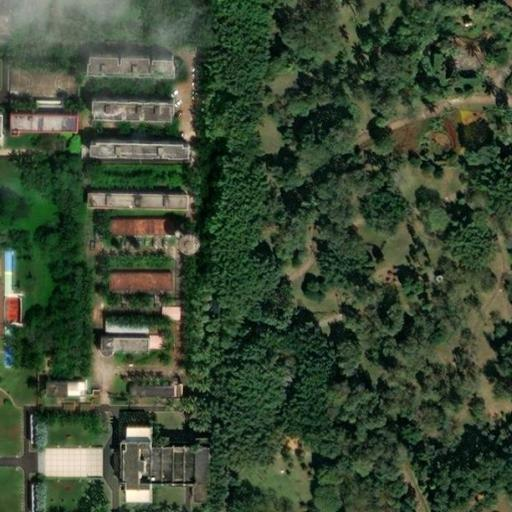building: (110, 448, 196, 488), (97, 140, 186, 159), (91, 53, 180, 72), (97, 199, 195, 216), (7, 108, 76, 132), (0, 246, 18, 325), (113, 276, 174, 299), (98, 98, 178, 115), (111, 222, 178, 239), (109, 345, 159, 360), (29, 413, 48, 447), (29, 479, 46, 511), (110, 488, 136, 506), (135, 390, 176, 401), (188, 234, 208, 254), (110, 432, 135, 448), (55, 388, 74, 406), (0, 14, 16, 35), (73, 387, 90, 405), (171, 488, 190, 503), (39, 99, 64, 108), (101, 454, 110, 479), (124, 133, 148, 141), (178, 439, 194, 448)
